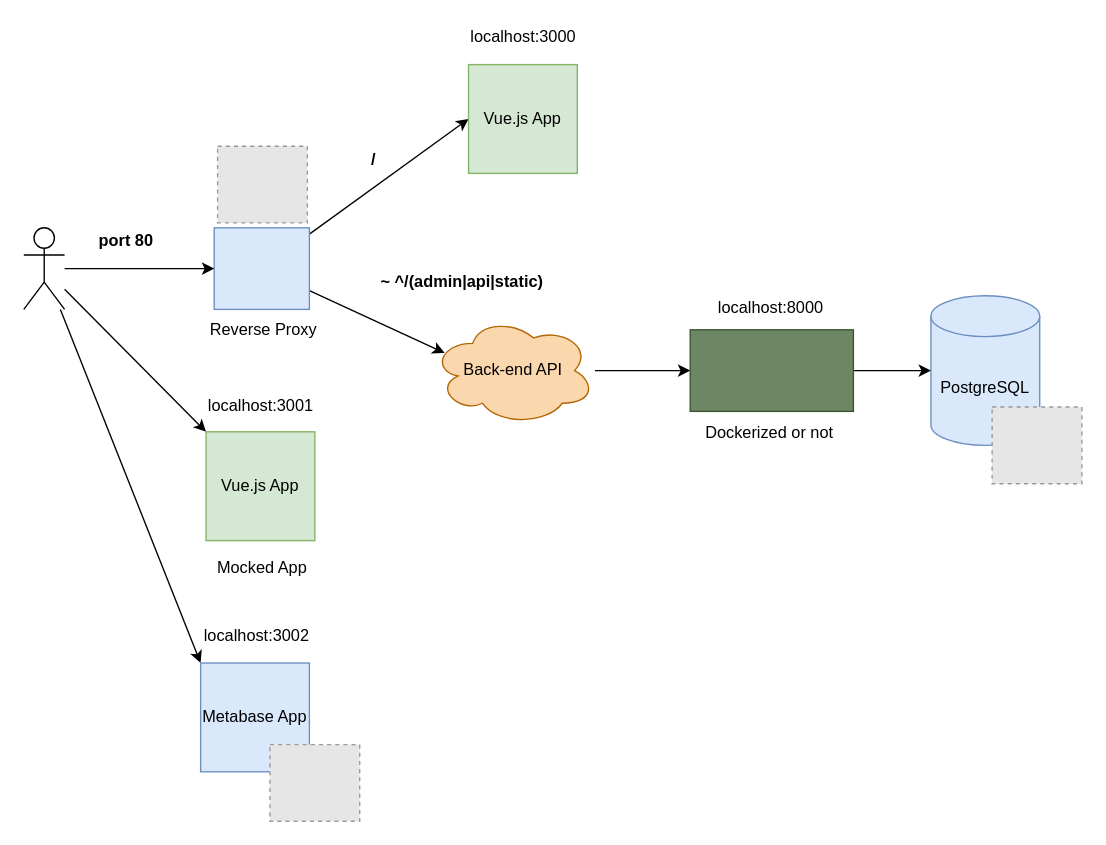
Some shapes in this 1106 by 845 pixel diagram are drawn without their labels. Grey dashed boxes stand in for pictures. The shapes that lost their labels are listed below. From the top down, each one's centre as x and y in pixels, then its label:
point 43,267: User
point 261,267: Nginx
point 771,369: Django App
